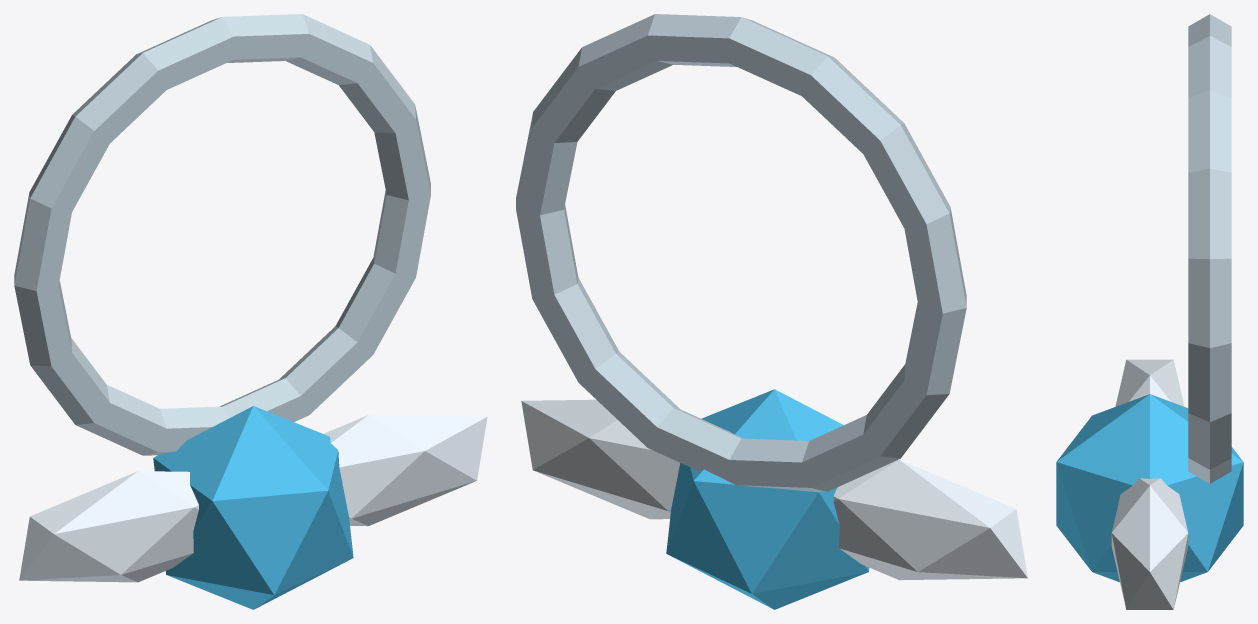
Rendered from windrunner-charm-1.glb.
The picture shows the model from 3 angles, left to right: view 1: azimuth 30°, elevation 25°; view 2: azimuth 150°, elevation 25°; view 3: azimuth 270°, elevation 25°; orthographic projection. The views are drawn at different scales.
Parts seen in each view (by area): view 1: Torus.006, Icosphere, Icosphere.001, Icosphere.002; view 2: Torus.006, Icosphere, Icosphere.001, Icosphere.002; view 3: Torus.006, Icosphere, Icosphere.002, Icosphere.001.
Boxes of the visible parts, bbox=[...] form: Torus.006: bbox=[14, 14, 430, 455]; Icosphere: bbox=[153, 406, 353, 609]; Icosphere.001: bbox=[19, 471, 198, 582]; Icosphere.002: bbox=[323, 415, 487, 526]; Torus.006: bbox=[516, 14, 966, 491]; Icosphere: bbox=[666, 389, 869, 609]; Icosphere.001: bbox=[833, 459, 1027, 580]; Icosphere.002: bbox=[521, 399, 680, 519]; Torus.006: bbox=[1188, 14, 1231, 483]; Icosphere: bbox=[1056, 394, 1243, 582]; Icosphere.002: bbox=[1111, 478, 1188, 609]; Icosphere.001: bbox=[1115, 359, 1184, 406].
Bounding box in the file's own units: 0.5283 × 0.615 × 0.1871.
